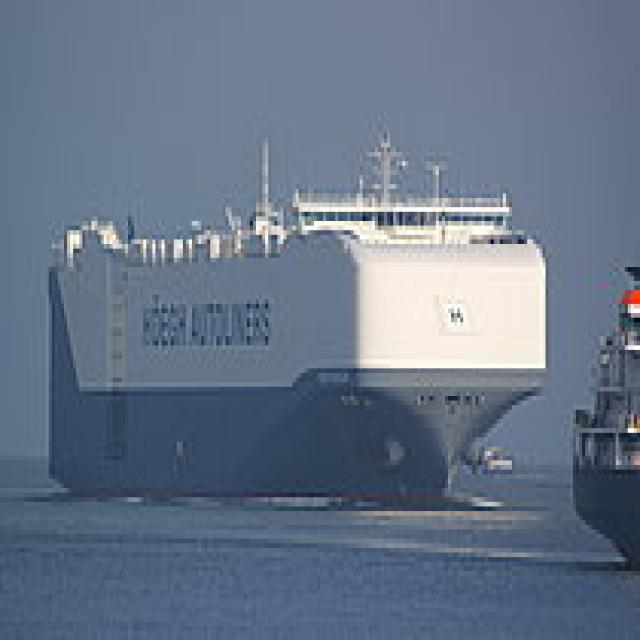Carrier: (36, 120, 548, 511)
